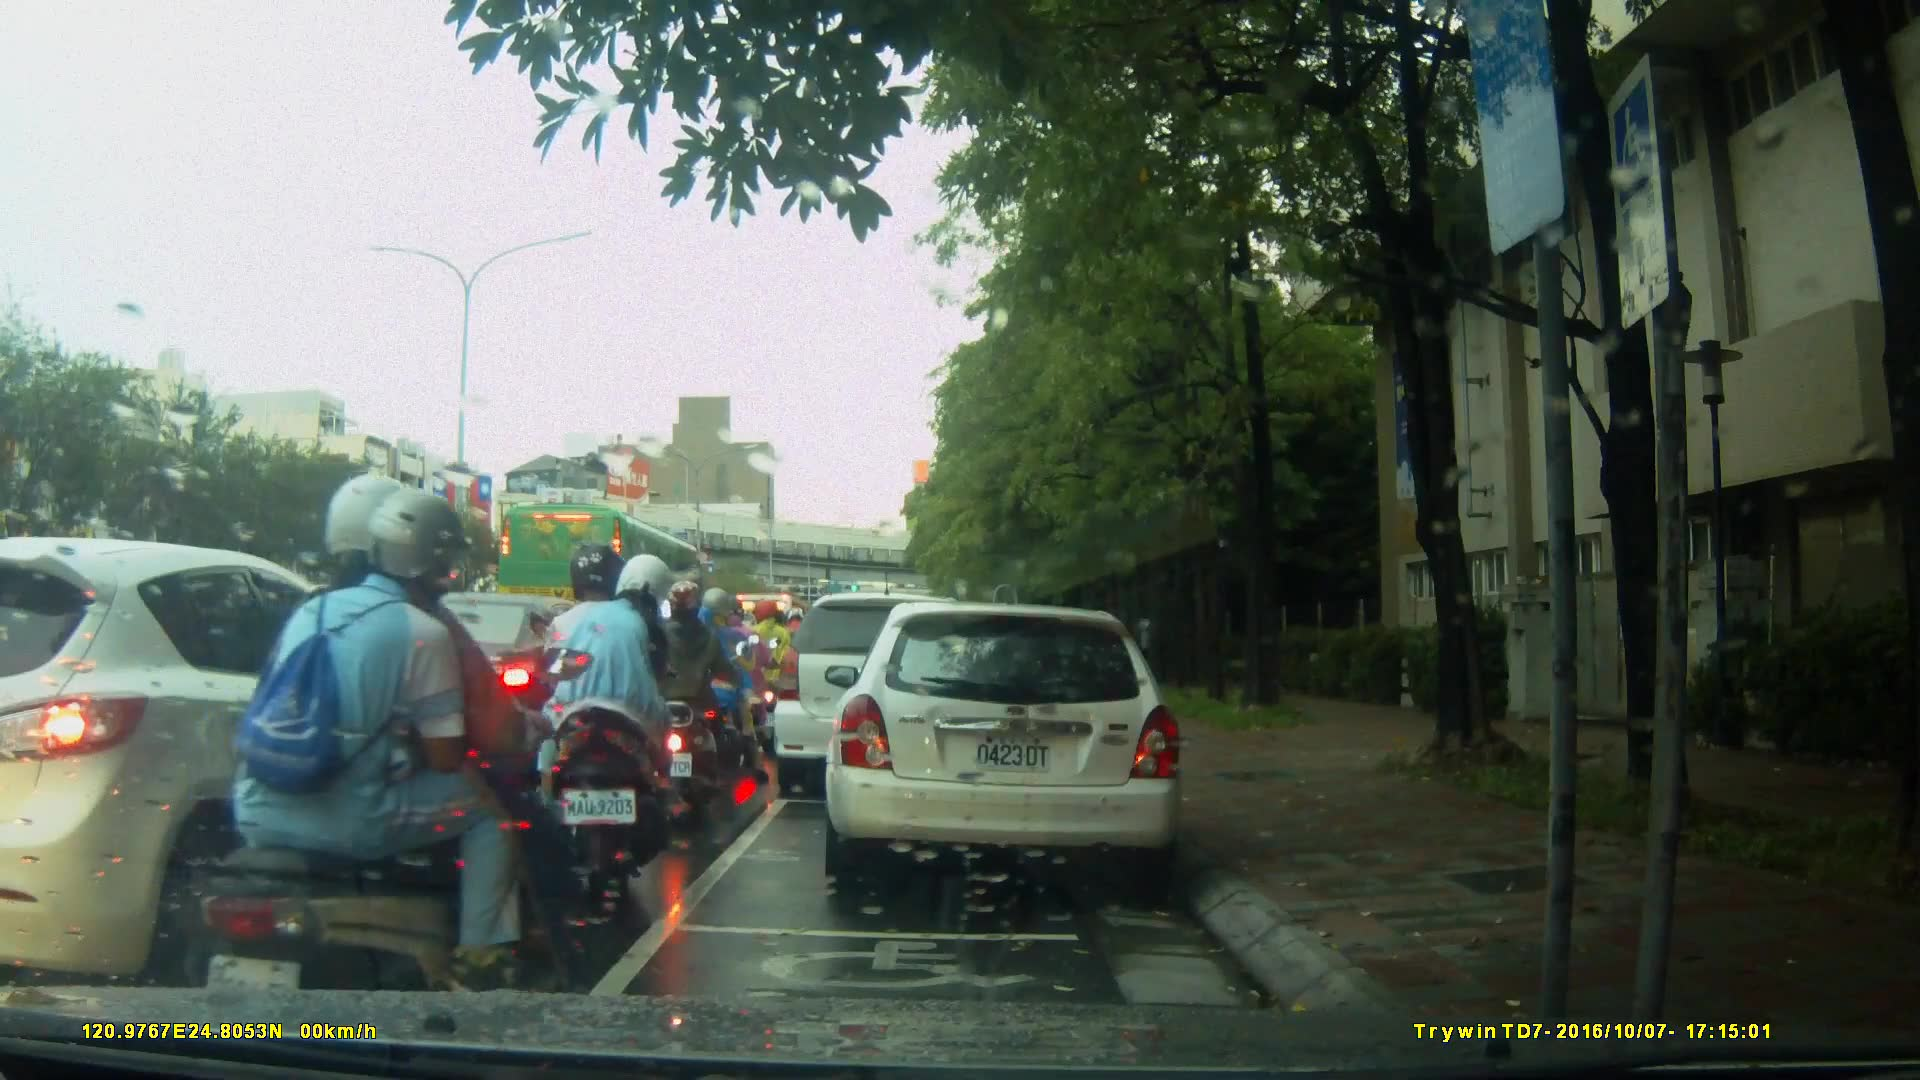rider: (196, 473, 609, 1061), (540, 544, 704, 903), (640, 578, 728, 814), (682, 589, 764, 779), (702, 598, 774, 764), (749, 598, 797, 737)
vehicle: (3, 536, 462, 987), (831, 592, 1196, 897), (312, 589, 629, 776), (772, 590, 999, 803), (496, 500, 711, 636)
